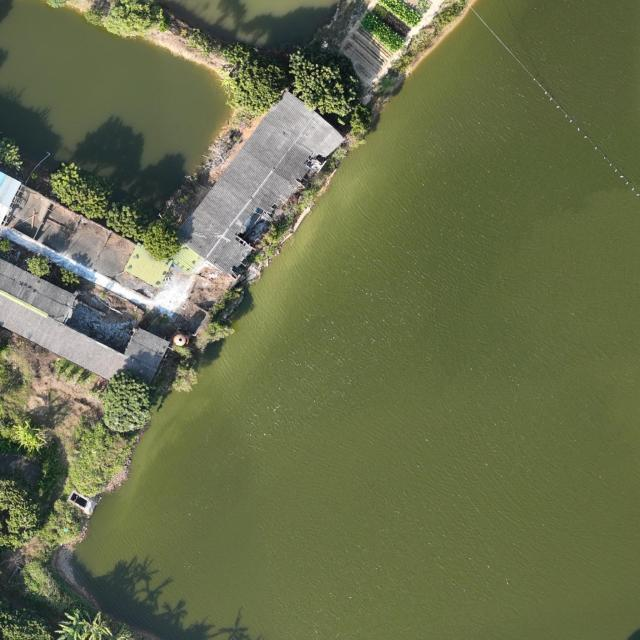tree: (287, 50, 353, 117), (50, 161, 114, 218), (100, 368, 152, 432), (0, 477, 43, 550), (141, 218, 184, 263), (54, 607, 112, 640), (105, 198, 147, 242), (0, 605, 51, 640), (12, 418, 46, 454), (0, 134, 23, 170), (26, 255, 50, 278), (60, 267, 80, 289), (0, 237, 12, 253)
